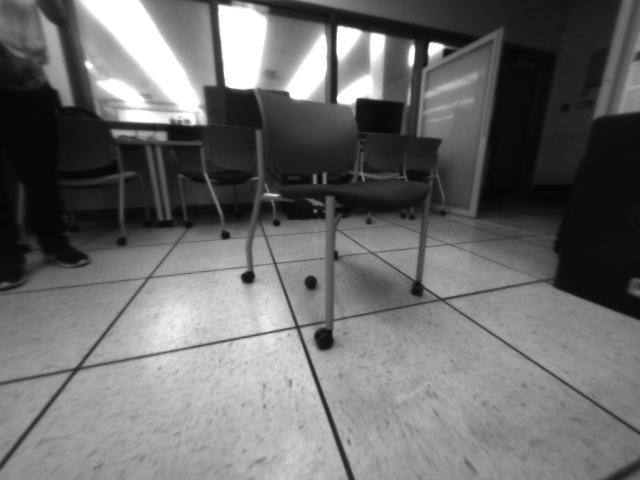dogtoy: (296, 267, 323, 295)
